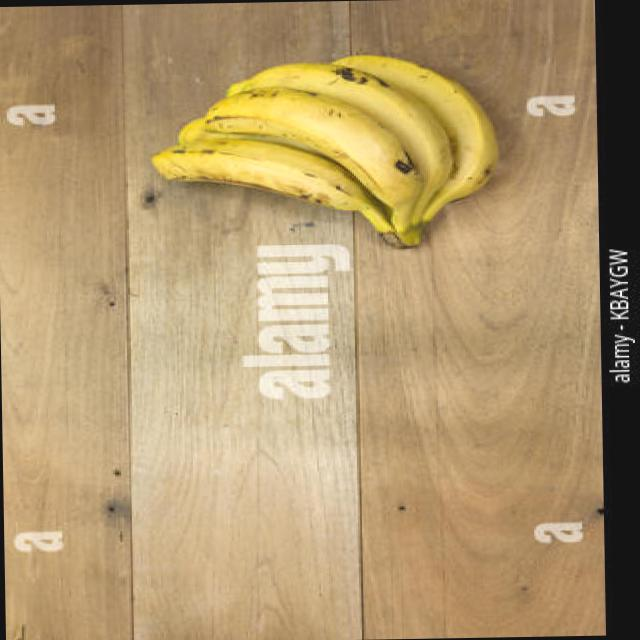Platano: (143, 48, 512, 254)
